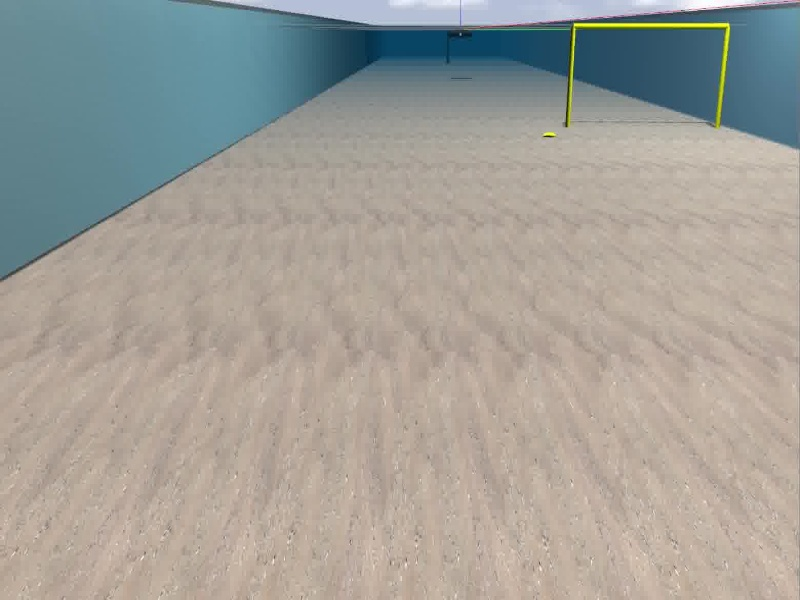gate: (566, 22, 730, 129)
